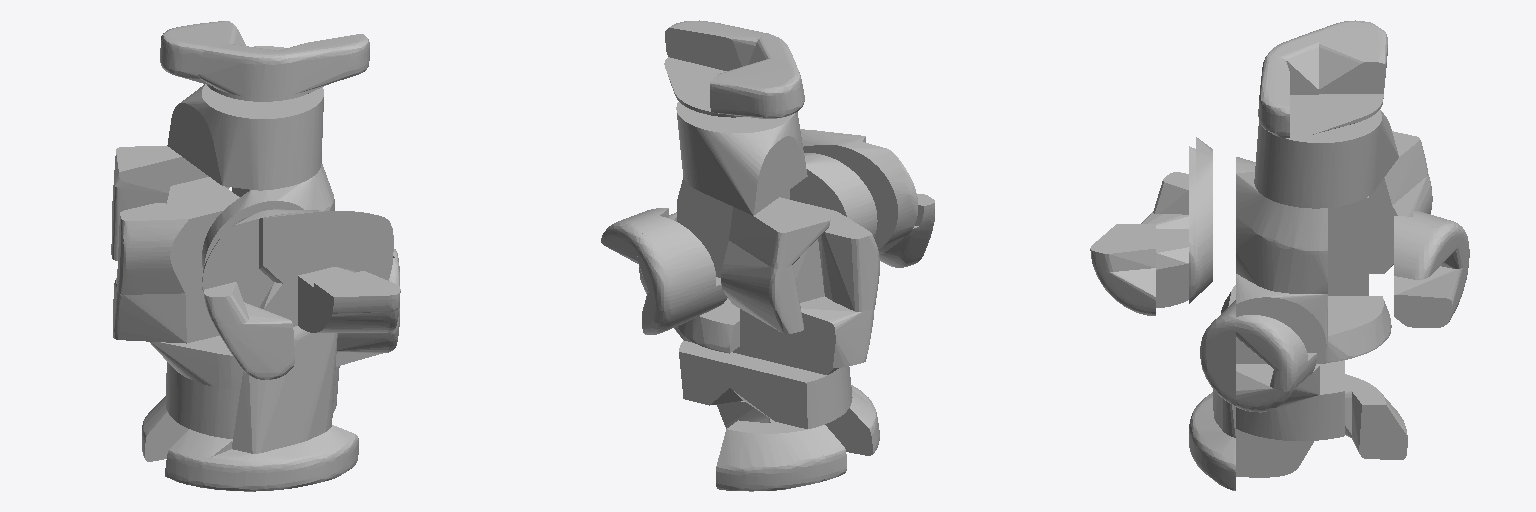
--- Facts derived from the render (not from the file) ---
3 views of the same robot in one strip: view 1: azimuth 30°, elevation 25°; view 2: azimuth 150°, elevation 25°; view 3: azimuth 270°, elevation 25° (orthographic).
Model root with 73 links and 72 joints (72 fixed), rooted at link_coacd_convex_piece_0, posed every joint at zero.
Visible links, largest first — view 1: link_coacd_convex_piece_8, link_coacd_convex_piece_6, link_coacd_convex_piece_67, link_coacd_convex_piece_0, link_coacd_convex_piece_62, link_coacd_convex_piece_65, link_coacd_convex_piece_47, link_coacd_convex_piece_34, link_coacd_convex_piece_36, link_coacd_convex_piece_71, link_coacd_convex_piece_20, link_coacd_convex_piece_7 (+14 smaller); view 2: link_coacd_convex_piece_8, link_coacd_convex_piece_32, link_coacd_convex_piece_20, link_coacd_convex_piece_65, link_coacd_convex_piece_36, link_coacd_convex_piece_54, link_coacd_convex_piece_62, link_coacd_convex_piece_68, link_coacd_convex_piece_39, link_coacd_convex_piece_70, link_coacd_convex_piece_45, link_coacd_convex_piece_71 (+14 smaller); view 3: link_coacd_convex_piece_8, link_coacd_convex_piece_43, link_coacd_convex_piece_39, link_coacd_convex_piece_21, link_coacd_convex_piece_48, link_coacd_convex_piece_49, link_coacd_convex_piece_32, link_coacd_convex_piece_59, link_coacd_convex_piece_55, link_coacd_convex_piece_29, link_coacd_convex_piece_0, link_coacd_convex_piece_72 (+19 smaller).
Link boxes in pixels (x1=…): link_coacd_convex_piece_8: x1=167, y1=84, x2=323, y2=190; link_coacd_convex_piece_6: x1=232, y1=326, x2=337, y2=453; link_coacd_convex_piece_67: x1=259, y1=211, x2=393, y2=283; link_coacd_convex_piece_0: x1=202, y1=425, x2=358, y2=491; link_coacd_convex_piece_62: x1=117, y1=203, x2=187, y2=294; link_coacd_convex_piece_65: x1=113, y1=278, x2=219, y2=343; link_coacd_convex_piece_47: x1=199, y1=44, x2=288, y2=97; link_coacd_convex_piece_34: x1=213, y1=302, x2=294, y2=379; link_coacd_convex_piece_36: x1=202, y1=209, x2=318, y2=307; link_coacd_convex_piece_71: x1=279, y1=34, x2=369, y2=95; link_coacd_convex_piece_20: x1=166, y1=362, x2=239, y2=438; link_coacd_convex_piece_7: x1=150, y1=336, x2=382, y2=389; link_coacd_convex_piece_8: x1=676, y1=102, x2=807, y2=215; link_coacd_convex_piece_32: x1=716, y1=420, x2=824, y2=491; link_coacd_convex_piece_20: x1=730, y1=355, x2=852, y2=428; link_coacd_convex_piece_65: x1=740, y1=296, x2=874, y2=368; link_coacd_convex_piece_36: x1=801, y1=134, x2=917, y2=254; link_coacd_convex_piece_54: x1=637, y1=216, x2=715, y2=299; link_coacd_convex_piece_62: x1=818, y1=212, x2=879, y2=311; link_coacd_convex_piece_68: x1=721, y1=241, x2=803, y2=333; link_coacd_convex_piece_39: x1=710, y1=59, x2=804, y2=118; link_coacd_convex_piece_70: x1=729, y1=205, x2=830, y2=268; link_coacd_convex_piece_45: x1=790, y1=153, x2=877, y2=236; link_coacd_convex_piece_71: x1=665, y1=20, x2=764, y2=70; link_coacd_convex_piece_8: x1=1254, y1=110, x2=1398, y2=208; link_coacd_convex_piece_43: x1=1236, y1=172, x2=1327, y2=293; link_coacd_convex_piece_39: x1=1319, y1=20, x2=1387, y2=93; link_coacd_convex_piece_21: x1=1236, y1=366, x2=1344, y2=440; link_coacd_convex_piece_48: x1=1236, y1=274, x2=1327, y2=363; link_coacd_convex_piece_49: x1=1328, y1=296, x2=1391, y2=362; link_coacd_convex_piece_32: x1=1352, y1=376, x2=1407, y2=459; link_coacd_convex_piece_59: x1=1394, y1=263, x2=1468, y2=327; link_coacd_convex_piece_55: x1=1394, y1=216, x2=1458, y2=279; link_coacd_convex_piece_29: x1=1290, y1=94, x2=1383, y2=137; link_coacd_convex_piece_0: x1=1189, y1=392, x2=1235, y2=490; link_coacd_convex_piece_72: x1=1328, y1=196, x2=1368, y2=270.
Size in the robot's own frame: 0.0708 by 0.0901 by 0.1086 metres.
39 mesh visuals loaded from 73 distinct referenced files (39 OBJ); not drawn: 34 (reference not matched to a file when rendering).

robot.urdf — root:
<robot name="root">
  <link name="link_coacd_convex_piece_0">
    <inertial>
      <origin xyz="0 0 0" rpy="0 0 0"/>
      <inertia ixx="5.65E-09" ixy="-8.96E-11" ixz="-2.30E-10" iyy="5.38E-09" iyz="-1.65E-09" izz="7.18E-10"/>
    </inertial>
    <visual>
      <origin xyz="0 0 0" rpy="0 0 0"/>
      <geometry>
        <mesh filename="coacd_convex_piece_0.obj" scale="1.0000E+00 1.0000E+00 1.0000E+00"/>
      </geometry>
      <material name="">
        <color rgba="7.50E-01 7.50E-01 7.50E-01 1"/>
      </material>
    </visual>
    <collision>
      <origin xyz="0 0 0" rpy="0 0 0"/>
      <geometry>
        <mesh filename="coacd_convex_piece_0.obj" scale="1.0000E+00 1.0000E+00 1.0000E+00"/>
      </geometry>
    </collision>
  </link>
  <link name="link_coacd_convex_piece_1">
    <inertial>
      <origin xyz="0 0 0" rpy="0 0 0"/>
      <inertia ixx="5.19E-10" ixy="3.91E-10" ixz="4.08E-10" iyy="9.51E-10" iyz="-2.65E-10" izz="8.88E-10"/>
    </inertial>
    <visual>
      <origin xyz="0 0 0" rpy="0 0 0"/>
      <geometry>
        <mesh filename="coacd_convex_piece_1.obj" scale="1.0000E+00 1.0000E+00 1.0000E+00"/>
      </geometry>
      <material name="">
        <color rgba="7.50E-01 7.50E-01 7.50E-01 1"/>
      </material>
    </visual>
    <collision>
      <origin xyz="0 0 0" rpy="0 0 0"/>
      <geometry>
        <mesh filename="coacd_convex_piece_1.obj" scale="1.0000E+00 1.0000E+00 1.0000E+00"/>
      </geometry>
    </collision>
  </link>
  <joint name="link_coacd_convex_piece_1_joint" type="fixed">
    <origin xyz="0 0 0" rpy="0 0 0"/>
    <parent link="link_coacd_convex_piece_0"/>
    <child link="link_coacd_convex_piece_1"/>
  </joint>
  <link name="link_coacd_convex_piece_2">
    <inertial>
      <origin xyz="0 0 0" rpy="0 0 0"/>
      <inertia ixx="3.20E-09" ixy="4.69E-10" ixz="-1.83E-10" iyy="5.70E-10" iyz="1.03E-09" izz="2.92E-09"/>
    </inertial>
    <visual>
      <origin xyz="0 0 0" rpy="0 0 0"/>
      <geometry>
        <mesh filename="coacd_convex_piece_2.obj" scale="1.0000E+00 1.0000E+00 1.0000E+00"/>
      </geometry>
      <material name="">
        <color rgba="7.50E-01 7.50E-01 7.50E-01 1"/>
      </material>
    </visual>
    <collision>
      <origin xyz="0 0 0" rpy="0 0 0"/>
      <geometry>
        <mesh filename="coacd_convex_piece_2.obj" scale="1.0000E+00 1.0000E+00 1.0000E+00"/>
      </geometry>
    </collision>
  </link>
  <joint name="link_coacd_convex_piece_2_joint" type="fixed">
    <origin xyz="0 0 0" rpy="0 0 0"/>
    <parent link="link_coacd_convex_piece_1"/>
    <child link="link_coacd_convex_piece_2"/>
  </joint>
  <link name="link_coacd_convex_piece_3">
    <inertial>
      <origin xyz="0 0 0" rpy="0 0 0"/>
      <inertia ixx="8.60E-10" ixy="-3.08E-10" ixz="2.15E-10" iyy="7.87E-10" iyz="3.41E-10" izz="9.61E-10"/>
    </inertial>
    <visual>
      <origin xyz="0 0 0" rpy="0 0 0"/>
      <geometry>
        <mesh filename="coacd_convex_piece_3.obj" scale="1.0000E+00 1.0000E+00 1.0000E+00"/>
      </geometry>
      <material name="">
        <color rgba="7.50E-01 7.50E-01 7.50E-01 1"/>
      </material>
    </visual>
    <collision>
      <origin xyz="0 0 0" rpy="0 0 0"/>
      <geometry>
        <mesh filename="coacd_convex_piece_3.obj" scale="1.0000E+00 1.0000E+00 1.0000E+00"/>
      </geometry>
    </collision>
  </link>
  <joint name="link_coacd_convex_piece_3_joint" type="fixed">
    <origin xyz="0 0 0" rpy="0 0 0"/>
    <parent link="link_coacd_convex_piece_2"/>
    <child link="link_coacd_convex_piece_3"/>
  </joint>
  <link name="link_coacd_convex_piece_4">
    <inertial>
      <origin xyz="0 0 0" rpy="0 0 0"/>
      <inertia ixx="1.41E-09" ixy="-4.22E-10" ixz="-1.90E-11" iyy="1.61E-10" iyz="-6.66E-11" izz="1.51E-09"/>
    </inertial>
    <visual>
      <origin xyz="0 0 0" rpy="0 0 0"/>
      <geometry>
        <mesh filename="coacd_convex_piece_4.obj" scale="1.0000E+00 1.0000E+00 1.0000E+00"/>
      </geometry>
      <material name="">
        <color rgba="7.50E-01 7.50E-01 7.50E-01 1"/>
      </material>
    </visual>
    <collision>
      <origin xyz="0 0 0" rpy="0 0 0"/>
      <geometry>
        <mesh filename="coacd_convex_piece_4.obj" scale="1.0000E+00 1.0000E+00 1.0000E+00"/>
      </geometry>
    </collision>
  </link>
  <joint name="link_coacd_convex_piece_4_joint" type="fixed">
    <origin xyz="0 0 0" rpy="0 0 0"/>
    <parent link="link_coacd_convex_piece_3"/>
    <child link="link_coacd_convex_piece_4"/>
  </joint>
  <link name="link_coacd_convex_piece_5">
    <inertial>
      <origin xyz="0 0 0" rpy="0 0 0"/>
      <inertia ixx="8.54E-09" ixy="-5.01E-10" ixz="1.37E-09" iyy="7.70E-09" iyz="2.91E-09" izz="1.56E-09"/>
    </inertial>
    <visual>
      <origin xyz="0 0 0" rpy="0 0 0"/>
      <geometry>
        <mesh filename="coacd_convex_piece_5.obj" scale="1.0000E+00 1.0000E+00 1.0000E+00"/>
      </geometry>
      <material name="">
        <color rgba="7.50E-01 7.50E-01 7.50E-01 1"/>
      </material>
    </visual>
    <collision>
      <origin xyz="0 0 0" rpy="0 0 0"/>
      <geometry>
        <mesh filename="coacd_convex_piece_5.obj" scale="1.0000E+00 1.0000E+00 1.0000E+00"/>
      </geometry>
    </collision>
  </link>
  <joint name="link_coacd_convex_piece_5_joint" type="fixed">
    <origin xyz="0 0 0" rpy="0 0 0"/>
    <parent link="link_coacd_convex_piece_4"/>
    <child link="link_coacd_convex_piece_5"/>
  </joint>
  <link name="link_coacd_convex_piece_6">
    <inertial>
      <origin xyz="0 0 0" rpy="0 0 0"/>
      <inertia ixx="2.23E-09" ixy="-3.83E-11" ixz="-8.50E-11" iyy="2.01E-09" iyz="-8.12E-10" izz="4.17E-10"/>
    </inertial>
    <visual>
      <origin xyz="0 0 0" rpy="0 0 0"/>
      <geometry>
        <mesh filename="coacd_convex_piece_6.obj" scale="1.0000E+00 1.0000E+00 1.0000E+00"/>
      </geometry>
      <material name="">
        <color rgba="7.50E-01 7.50E-01 7.50E-01 1"/>
      </material>
    </visual>
    <collision>
      <origin xyz="0 0 0" rpy="0 0 0"/>
      <geometry>
        <mesh filename="coacd_convex_piece_6.obj" scale="1.0000E+00 1.0000E+00 1.0000E+00"/>
      </geometry>
    </collision>
  </link>
  <joint name="link_coacd_convex_piece_6_joint" type="fixed">
    <origin xyz="0 0 0" rpy="0 0 0"/>
    <parent link="link_coacd_convex_piece_5"/>
    <child link="link_coacd_convex_piece_6"/>
  </joint>
  <link name="link_coacd_convex_piece_7">
    <inertial>
      <origin xyz="0 0 0" rpy="0 0 0"/>
      <inertia ixx="3.57E-09" ixy="7.56E-11" ixz="6.93E-10" iyy="5.10E-09" iyz="-1.26E-10" izz="1.74E-09"/>
    </inertial>
    <visual>
      <origin xyz="0 0 0" rpy="0 0 0"/>
      <geometry>
        <mesh filename="coacd_convex_piece_7.obj" scale="1.0000E+00 1.0000E+00 1.0000E+00"/>
      </geometry>
      <material name="">
        <color rgba="7.50E-01 7.50E-01 7.50E-01 1"/>
      </material>
    </visual>
    <collision>
      <origin xyz="0 0 0" rpy="0 0 0"/>
      <geometry>
        <mesh filename="coacd_convex_piece_7.obj" scale="1.0000E+00 1.0000E+00 1.0000E+00"/>
      </geometry>
    </collision>
  </link>
  <joint name="link_coacd_convex_piece_7_joint" type="fixed">
    <origin xyz="0 0 0" rpy="0 0 0"/>
    <parent link="link_coacd_convex_piece_6"/>
    <child link="link_coacd_convex_piece_7"/>
  </joint>
  <link name="link_coacd_convex_piece_8">
    <inertial>
      <origin xyz="0 0 0" rpy="0 0 0"/>
      <inertia ixx="1.16E-08" ixy="-2.11E-10" ixz="-7.82E-10" iyy="1.06E-08" iyz="-3.44E-09" izz="2.34E-09"/>
    </inertial>
    <visual>
      <origin xyz="0 0 0" rpy="0 0 0"/>
      <geometry>
        <mesh filename="coacd_convex_piece_8.obj" scale="1.0000E+00 1.0000E+00 1.0000E+00"/>
      </geometry>
      <material name="">
        <color rgba="7.50E-01 7.50E-01 7.50E-01 1"/>
      </material>
    </visual>
    <collision>
      <origin xyz="0 0 0" rpy="0 0 0"/>
      <geometry>
        <mesh filename="coacd_convex_piece_8.obj" scale="1.0000E+00 1.0000E+00 1.0000E+00"/>
      </geometry>
    </collision>
  </link>
  <joint name="link_coacd_convex_piece_8_joint" type="fixed">
    <origin xyz="0 0 0" rpy="0 0 0"/>
    <parent link="link_coacd_convex_piece_7"/>
    <child link="link_coacd_convex_piece_8"/>
  </joint>
  <link name="link_coacd_convex_piece_9">
    <inertial>
      <origin xyz="0 0 0" rpy="0 0 0"/>
      <inertia ixx="1.22E-09" ixy="1.02E-10" ixz="-5.42E-11" iyy="3.27E-10" iyz="4.93E-10" izz="9.71E-10"/>
    </inertial>
    <visual>
      <origin xyz="0 0 0" rpy="0 0 0"/>
      <geometry>
        <mesh filename="coacd_convex_piece_9.obj" scale="1.0000E+00 1.0000E+00 1.0000E+00"/>
      </geometry>
      <material name="">
        <color rgba="7.50E-01 7.50E-01 7.50E-01 1"/>
      </material>
    </visual>
    <collision>
      <origin xyz="0 0 0" rpy="0 0 0"/>
      <geometry>
        <mesh filename="coacd_convex_piece_9.obj" scale="1.0000E+00 1.0000E+00 1.0000E+00"/>
      </geometry>
    </collision>
  </link>
  <joint name="link_coacd_convex_piece_9_joint" type="fixed">
    <origin xyz="0 0 0" rpy="0 0 0"/>
    <parent link="link_coacd_convex_piece_8"/>
    <child link="link_coacd_convex_piece_9"/>
  </joint>
  <link name="link_coacd_convex_piece_10">
    <inertial>
      <origin xyz="0 0 0" rpy="0 0 0"/>
      <inertia ixx="1.81E-09" ixy="1.93E-10" ixz="-3.38E-10" iyy="1.45E-09" iyz="7.91E-10" izz="5.80E-10"/>
    </inertial>
    <visual>
      <origin xyz="0 0 0" rpy="0 0 0"/>
      <geometry>
        <mesh filename="coacd_convex_piece_10.obj" scale="1.0000E+00 1.0000E+00 1.0000E+00"/>
      </geometry>
      <material name="">
        <color rgba="7.50E-01 7.50E-01 7.50E-01 1"/>
      </material>
    </visual>
    <collision>
      <origin xyz="0 0 0" rpy="0 0 0"/>
      <geometry>
        <mesh filename="coacd_convex_piece_10.obj" scale="1.0000E+00 1.0000E+00 1.0000E+00"/>
      </geometry>
    </collision>
  </link>
  <joint name="link_coacd_convex_piece_10_joint" type="fixed">
    <origin xyz="0 0 0" rpy="0 0 0"/>
    <parent link="link_coacd_convex_piece_9"/>
    <child link="link_coacd_convex_piece_10"/>
  </joint>
  <link name="link_coacd_convex_piece_11">
    <inertial>
      <origin xyz="0 0 0" rpy="0 0 0"/>
      <inertia ixx="1.30E-09" ixy="-5.39E-10" ixz="4.52E-10" iyy="9.49E-10" iyz="6.31E-10" izz="1.14E-09"/>
    </inertial>
    <visual>
      <origin xyz="0 0 0" rpy="0 0 0"/>
      <geometry>
        <mesh filename="coacd_convex_piece_11.obj" scale="1.0000E+00 1.0000E+00 1.0000E+00"/>
      </geometry>
      <material name="">
        <color rgba="7.50E-01 7.50E-01 7.50E-01 1"/>
      </material>
    </visual>
    <collision>
      <origin xyz="0 0 0" rpy="0 0 0"/>
      <geometry>
        <mesh filename="coacd_convex_piece_11.obj" scale="1.0000E+00 1.0000E+00 1.0000E+00"/>
      </geometry>
    </collision>
  </link>
  <joint name="link_coacd_convex_piece_11_joint" type="fixed">
    <origin xyz="0 0 0" rpy="0 0 0"/>
    <parent link="link_coacd_convex_piece_10"/>
    <child link="link_coacd_convex_piece_11"/>
  </joint>
  <link name="link_coacd_convex_piece_12">
    <inertial>
      <origin xyz="0 0 0" rpy="0 0 0"/>
      <inertia ixx="1.37E-09" ixy="-2.89E-10" ixz="1.73E-10" iyy="4.44E-10" iyz="5.66E-10" izz="1.10E-09"/>
    </inertial>
    <visual>
      <origin xyz="0 0 0" rpy="0 0 0"/>
      <geometry>
        <mesh filename="coacd_convex_piece_12.obj" scale="1.0000E+00 1.0000E+00 1.0000E+00"/>
      </geometry>
      <material name="">
        <color rgba="7.50E-01 7.50E-01 7.50E-01 1"/>
      </material>
    </visual>
    <collision>
      <origin xyz="0 0 0" rpy="0 0 0"/>
      <geometry>
        <mesh filename="coacd_convex_piece_12.obj" scale="1.0000E+00 1.0000E+00 1.0000E+00"/>
      </geometry>
    </collision>
  </link>
  <joint name="link_coacd_convex_piece_12_joint" type="fixed">
    <origin xyz="0 0 0" rpy="0 0 0"/>
    <parent link="link_coacd_convex_piece_11"/>
    <child link="link_coacd_convex_piece_12"/>
  </joint>
  <link name="link_coacd_convex_piece_13">
    <inertial>
      <origin xyz="0 0 0" rpy="0 0 0"/>
      <inertia ixx="5.78E-10" ixy="-1.39E-10" ixz="1.07E-10" iyy="2.76E-10" iyz="2.69E-10" izz="4.10E-10"/>
    </inertial>
    <visual>
      <origin xyz="0 0 0" rpy="0 0 0"/>
      <geometry>
        <mesh filename="coacd_convex_piece_13.obj" scale="1.0000E+00 1.0000E+00 1.0000E+00"/>
      </geometry>
      <material name="">
        <color rgba="7.50E-01 7.50E-01 7.50E-01 1"/>
      </material>
    </visual>
    <collision>
      <origin xyz="0 0 0" rpy="0 0 0"/>
      <geometry>
        <mesh filename="coacd_convex_piece_13.obj" scale="1.0000E+00 1.0000E+00 1.0000E+00"/>
      </geometry>
    </collision>
  </link>
  <joint name="link_coacd_convex_piece_13_joint" type="fixed">
    <origin xyz="0 0 0" rpy="0 0 0"/>
    <parent link="link_coacd_convex_piece_12"/>
    <child link="link_coacd_convex_piece_13"/>
  </joint>
  <link name="link_coacd_convex_piece_14">
    <inertial>
      <origin xyz="0 0 0" rpy="0 0 0"/>
      <inertia ixx="1.01E-09" ixy="1.15E-10" ixz="-1.28E-11" iyy="4.17E-11" iyz="1.23E-10" izz="1.03E-09"/>
    </inertial>
    <visual>
      <origin xyz="0 0 0" rpy="0 0 0"/>
      <geometry>
        <mesh filename="coacd_convex_piece_14.obj" scale="1.0000E+00 1.0000E+00 1.0000E+00"/>
      </geometry>
      <material name="">
        <color rgba="7.50E-01 7.50E-01 7.50E-01 1"/>
      </material>
    </visual>
    <collision>
      <origin xyz="0 0 0" rpy="0 0 0"/>
      <geometry>
        <mesh filename="coacd_convex_piece_14.obj" scale="1.0000E+00 1.0000E+00 1.0000E+00"/>
      </geometry>
    </collision>
  </link>
  <joint name="link_coacd_convex_piece_14_joint" type="fixed">
    <origin xyz="0 0 0" rpy="0 0 0"/>
    <parent link="link_coacd_convex_piece_13"/>
    <child link="link_coacd_convex_piece_14"/>
  </joint>
  <link name="link_coacd_convex_piece_15">
    <inertial>
      <origin xyz="0 0 0" rpy="0 0 0"/>
      <inertia ixx="1.29E-10" ixy="-5.08E-11" ixz="-1.24E-11" iyy="7.33E-11" iyz="-5.11E-11" izz="1.73E-10"/>
    </inertial>
    <visual>
      <origin xyz="0 0 0" rpy="0 0 0"/>
      <geometry>
        <mesh filename="coacd_convex_piece_15.obj" scale="1.0000E+00 1.0000E+00 1.0000E+00"/>
      </geometry>
      <material name="">
        <color rgba="7.50E-01 7.50E-01 7.50E-01 1"/>
      </material>
    </visual>
    <collision>
      <origin xyz="0 0 0" rpy="0 0 0"/>
      <geometry>
        <mesh filename="coacd_convex_piece_15.obj" scale="1.0000E+00 1.0000E+00 1.0000E+00"/>
      </geometry>
    </collision>
  </link>
  <joint name="link_coacd_convex_piece_15_joint" type="fixed">
    <origin xyz="0 0 0" rpy="0 0 0"/>
    <parent link="link_coacd_convex_piece_14"/>
    <child link="link_coacd_convex_piece_15"/>
  </joint>
  <link name="link_coacd_convex_piece_16">
    <inertial>
      <origin xyz="0 0 0" rpy="0 0 0"/>
      <inertia ixx="3.81E-10" ixy="2.26E-10" ixz="8.52E-12" iyy="1.44E-10" iyz="-2.10E-11" izz="5.17E-10"/>
    </inertial>
    <visual>
      <origin xyz="0 0 0" rpy="0 0 0"/>
      <geometry>
        <mesh filename="coacd_convex_piece_16.obj" scale="1.0000E+00 1.0000E+00 1.0000E+00"/>
      </geometry>
      <material name="">
        <color rgba="7.50E-01 7.50E-01 7.50E-01 1"/>
      </material>
    </visual>
    <collision>
      <origin xyz="0 0 0" rpy="0 0 0"/>
      <geometry>
        <mesh filename="coacd_convex_piece_16.obj" scale="1.0000E+00 1.0000E+00 1.0000E+00"/>
      </geometry>
    </collision>
  </link>
  <joint name="link_coacd_convex_piece_16_joint" type="fixed">
    <origin xyz="0 0 0" rpy="0 0 0"/>
    <parent link="link_coacd_convex_piece_15"/>
    <child link="link_coacd_convex_piece_16"/>
  </joint>
  <link name="link_coacd_convex_piece_17">
    <inertial>
      <origin xyz="0 0 0" rpy="0 0 0"/>
      <inertia ixx="1.62E-09" ixy="2.97E-10" ixz="2.44E-11" iyy="9.91E-11" iyz="-9.72E-11" izz="1.71E-09"/>
    </inertial>
    <visual>
      <origin xyz="0 0 0" rpy="0 0 0"/>
      <geometry>
        <mesh filename="coacd_convex_piece_17.obj" scale="1.0000E+00 1.0000E+00 1.0000E+00"/>
      </geometry>
      <material name="">
        <color rgba="7.50E-01 7.50E-01 7.50E-01 1"/>
      </material>
    </visual>
    <collision>
      <origin xyz="0 0 0" rpy="0 0 0"/>
      <geometry>
        <mesh filename="coacd_convex_piece_17.obj" scale="1.0000E+00 1.0000E+00 1.0000E+00"/>
      </geometry>
    </collision>
  </link>
  <joint name="link_coacd_convex_piece_17_joint" type="fixed">
    <origin xyz="0 0 0" rpy="0 0 0"/>
    <parent link="link_coacd_convex_piece_16"/>
    <child link="link_coacd_convex_piece_17"/>
  </joint>
  <link name="link_coacd_convex_piece_18">
    <inertial>
      <origin xyz="0 0 0" rpy="0 0 0"/>
      <inertia ixx="2.01E-10" ixy="-2.09E-10" ixz="3.79E-11" iyy="2.24E-10" iyz="3.19E-11" izz="4.13E-10"/>
    </inertial>
    <visual>
      <origin xyz="0 0 0" rpy="0 0 0"/>
      <geometry>
        <mesh filename="coacd_convex_piece_18.obj" scale="1.0000E+00 1.0000E+00 1.0000E+00"/>
      </geometry>
      <material name="">
        <color rgba="7.50E-01 7.50E-01 7.50E-01 1"/>
      </material>
    </visual>
    <collision>
      <origin xyz="0 0 0" rpy="0 0 0"/>
      <geometry>
        <mesh filename="coacd_convex_piece_18.obj" scale="1.0000E+00 1.0000E+00 1.0000E+00"/>
      </geometry>
    </collision>
  </link>
  <joint name="link_coacd_convex_piece_18_joint" type="fixed">
    <origin xyz="0 0 0" rpy="0 0 0"/>
    <parent link="link_coacd_convex_piece_17"/>
    <child link="link_coacd_convex_piece_18"/>
  </joint>
  <link name="link_coacd_convex_piece_19">
    <inertial>
      <origin xyz="0 0 0" rpy="0 0 0"/>
      <inertia ixx="5.73E-09" ixy="-4.95E-11" ixz="1.92E-09" iyy="6.35E-09" iyz="6.70E-11" izz="7.13E-10"/>
    </inertial>
    <visual>
      <origin xyz="0 0 0" rpy="0 0 0"/>
      <geometry>
        <mesh filename="coacd_convex_piece_19.obj" scale="1.0000E+00 1.0000E+00 1.0000E+00"/>
      </geometry>
      <material name="">
        <color rgba="7.50E-01 7.50E-01 7.50E-01 1"/>
      </material>
    </visual>
    <collision>
      <origin xyz="0 0 0" rpy="0 0 0"/>
      <geometry>
        <mesh filename="coacd_convex_piece_19.obj" scale="1.0000E+00 1.0000E+00 1.0000E+00"/>
      </geometry>
    </collision>
  </link>
  <joint name="link_coacd_convex_piece_19_joint" type="fixed">
    <origin xyz="0 0 0" rpy="0 0 0"/>
    <parent link="link_coacd_convex_piece_18"/>
    <child link="link_coacd_convex_piece_19"/>
  </joint>
  <link name="link_coacd_convex_piece_20">
    <inertial>
      <origin xyz="0 0 0" rpy="0 0 0"/>
      <inertia ixx="6.77E-09" ixy="1.49E-10" ixz="-1.75E-09" iyy="7.25E-09" iyz="4.80E-10" izz="9.98E-10"/>
    </inertial>
    <visual>
      <origin xyz="0 0 0" rpy="0 0 0"/>
      <geometry>
        <mesh filename="coacd_convex_piece_20.obj" scale="1.0000E+00 1.0000E+00 1.0000E+00"/>
      </geometry>
      <material name="">
        <color rgba="7.50E-01 7.50E-01 7.50E-01 1"/>
      </material>
    </visual>
    <collision>
      <origin xyz="0 0 0" rpy="0 0 0"/>
      <geometry>
        <mesh filename="coacd_convex_piece_20.obj" scale="1.0000E+00 1.0000E+00 1.0000E+00"/>
      </geometry>
    </collision>
  </link>
  <joint name="link_coacd_convex_piece_20_joint" type="fixed">
    <origin xyz="0 0 0" rpy="0 0 0"/>
    <parent link="link_coacd_convex_piece_19"/>
    <child link="link_coacd_convex_piece_20"/>
  </joint>
  <link name="link_coacd_convex_piece_21">
    <inertial>
      <origin xyz="0 0 0" rpy="0 0 0"/>
      <inertia ixx="4.36E-09" ixy="-1.52E-10" ixz="1.29E-09" iyy="4.66E-09" iyz="3.45E-10" izz="6.34E-10"/>
    </inertial>
    <visual>
      <origin xyz="0 0 0" rpy="0 0 0"/>
      <geometry>
        <mesh filename="coacd_convex_piece_21.obj" scale="1.0000E+00 1.0000E+00 1.0000E+00"/>
      </geometry>
      <material name="">
        <color rgba="7.50E-01 7.50E-01 7.50E-01 1"/>
      </material>
    </visual>
    <collision>
      <origin xyz="0 0 0" rpy="0 0 0"/>
      <geometry>
        <mesh filename="coacd_convex_piece_21.obj" scale="1.0000E+00 1.0000E+00 1.0000E+00"/>
      </geometry>
    </collision>
  </link>
  <joint name="link_coacd_convex_piece_21_joint" type="fixed">
    <origin xyz="0 0 0" rpy="0 0 0"/>
    <parent link="link_coacd_convex_piece_20"/>
    <child link="link_coacd_convex_piece_21"/>
  </joint>
  <link name="link_coacd_convex_piece_22">
    <inertial>
      <origin xyz="0 0 0" rpy="0 0 0"/>
      <inertia ixx="4.69E-09" ixy="1.48E-09" ixz="2.21E-09" iyy="4.83E-09" iyz="-2.16E-09" izz="3.13E-09"/>
    </inertial>
    <visual>
      <origin xyz="0 0 0" rpy="0 0 0"/>
      <geometry>
        <mesh filename="coacd_convex_piece_22.obj" scale="1.0000E+00 1.0000E+00 1.0000E+00"/>
      </geometry>
      <material name="">
        <color rgba="7.50E-01 7.50E-01 7.50E-01 1"/>
      </material>
    </visual>
    <collision>
      <origin xyz="0 0 0" rpy="0 0 0"/>
      <geometry>
        <mesh filename="coacd_convex_piece_22.obj" scale="1.0000E+00 1.0000E+00 1.0000E+00"/>
      </geometry>
    </collision>
  </link>
  <joint name="link_coacd_convex_piece_22_joint" type="fixed">
    <origin xyz="0 0 0" rpy="0 0 0"/>
    <parent link="link_coacd_convex_piece_21"/>
    <child link="link_coacd_convex_piece_22"/>
  </joint>
  <link name="link_coacd_convex_piece_23">
    <inertial>
      <origin xyz="0 0 0" rpy="0 0 0"/>
      <inertia ixx="5.71E-10" ixy="2.70E-10" ixz="-1.40E-10" iyy="3.01E-10" iyz="2.31E-10" izz="6.13E-10"/>
    </inertial>
    <visual>
      <origin xyz="0 0 0" rpy="0 0 0"/>
      <geometry>
        <mesh filename="coacd_convex_piece_23.obj" scale="1.0000E+00 1.0000E+00 1.0000E+00"/>
      </geometry>
      <material name="">
        <color rgba="7.50E-01 7.50E-01 7.50E-01 1"/>
      </material>
    </visual>
    <collision>
      <origin xyz="0 0 0" rpy="0 0 0"/>
      <geometry>
        <mesh filename="coacd_convex_piece_23.obj" scale="1.0000E+00 1.0000E+00 1.0000E+00"/>
      </geometry>
    </collision>
  </link>
  <joint name="link_coacd_convex_piece_23_joint" type="fixed">
    <origin xyz="0 0 0" rpy="0 0 0"/>
    <parent link="link_coacd_convex_piece_22"/>
    <child link="link_coacd_convex_piece_23"/>
  </joint>
  <link name="link_coacd_convex_piece_24">
    <inertial>
      <origin xyz="0 0 0" rpy="0 0 0"/>
      <inertia ixx="3.29E-10" ixy="-2.61E-10" ixz="1.30E-10" iyy="3.24E-10" iyz="1.31E-10" izz="5.19E-10"/>
    </inertial>
    <visual>
      <origin xyz="0 0 0" rpy="0 0 0"/>
      <geometry>
        <mesh filename="coacd_convex_piece_24.obj" scale="1.0000E+00 1.0000E+00 1.0000E+00"/>
      </geometry>
      <material name="">
        <color rgba="7.50E-01 7.50E-01 7.50E-01 1"/>
      </material>
    </visual>
    <collision>
      <origin xyz="0 0 0" rpy="0 0 0"/>
      <geometry>
        <mesh filename="coacd_convex_piece_24.obj" scale="1.0000E+00 1.0000E+00 1.0000E+00"/>
      </geometry>
    </collision>
  </link>
  <joint name="link_coacd_convex_piece_24_joint" type="fixed">
    <origin xyz="0 0 0" rpy="0 0 0"/>
    <parent link="link_coacd_convex_piece_23"/>
    <child link="link_coacd_convex_piece_24"/>
  </joint>
  <link name="link_coacd_convex_piece_25">
    <inertial>
      <origin xyz="0 0 0" rpy="0 0 0"/>
      <inertia ixx="8.06E-10" ixy="8.92E-11" ixz="7.57E-12" iyy="4.38E-11" iyz="-4.05E-11" izz="8.26E-10"/>
    </inertial>
    <visual>
      <origin xyz="0 0 0" rpy="0 0 0"/>
      <geometry>
        <mesh filename="coacd_convex_piece_25.obj" scale="1.0000E+00 1.0000E+00 1.0000E+00"/>
      </geometry>
      <material name="">
        <color rgba="7.50E-01 7.50E-01 7.50E-01 1"/>
      </material>
    </visual>
    <collision>
      <origin xyz="0 0 0" rpy="0 0 0"/>
      <geometry>
        <mesh filename="coacd_convex_piece_25.obj" scale="1.0000E+00 1.0000E+00 1.0000E+00"/>
      </geometry>
    </collision>
  </link>
  <joint name="link_coacd_convex_piece_25_joint" type="fixed">
    <origin xyz="0 0 0" rpy="0 0 0"/>
    <parent link="link_coacd_convex_piece_24"/>
    <child link="link_coacd_convex_piece_25"/>
  </joint>
  <link name="link_coacd_convex_piece_26">
    <inertial>
      <origin xyz="0 0 0" rpy="0 0 0"/>
      <inertia ixx="1.80E-09" ixy="-1.40E-10" ixz="2.34E-10" iyy="1.39E-09" iyz="7.89E-10" izz="5.36E-10"/>
    </inertial>
    <visual>
      <origin xyz="0 0 0" rpy="0 0 0"/>
      <geometry>
        <mesh filename="coacd_convex_piece_26.obj" scale="1.0000E+00 1.0000E+00 1.0000E+00"/>
      </geometry>
      <material name="">
        <color rgba="7.50E-01 7.50E-01 7.50E-01 1"/>
      </material>
    </visual>
    <collision>
      <origin xyz="0 0 0" rpy="0 0 0"/>
      <geometry>
        <mesh filename="coacd_convex_piece_26.obj" scale="1.0000E+00 1.0000E+00 1.0000E+00"/>
      </geometry>
    </collision>
  </link>
  <joint name="link_coacd_convex_piece_26_joint" type="fixed">
    <origin xyz="0 0 0" rpy="0 0 0"/>
    <parent link="link_coacd_convex_piece_25"/>
    <child link="link_coacd_convex_piece_26"/>
  </joint>
  <link name="link_coacd_convex_piece_27">
    <inertial>
      <origin xyz="0 0 0" rpy="0 0 0"/>
      <inertia ixx="1.05E-09" ixy="5.48E-10" ixz="-6.91E-10" iyy="1.42E-09" iyz="4.94E-10" izz="1.19E-09"/>
    </inertial>
    <visual>
      <origin xyz="0 0 0" rpy="0 0 0"/>
      <geometry>
        <mesh filename="coacd_convex_piece_27.obj" scale="1.0000E+00 1.0000E+00 1.0000E+00"/>
      </geometry>
      <material name="">
        <color rgba="7.50E-01 7.50E-01 7.50E-01 1"/>
      </material>
    </visual>
    <collision>
      <origin xyz="0 0 0" rpy="0 0 0"/>
      <geometry>
        <mesh filename="coacd_convex_piece_27.obj" scale="1.0000E+00 1.0000E+00 1.0000E+00"/>
      </geometry>
    </collision>
  </link>
  <joint name="link_coacd_convex_piece_27_joint" type="fixed">
    <origin xyz="0 0 0" rpy="0 0 0"/>
    <parent link="link_coacd_convex_piece_26"/>
    <child link="link_coacd_convex_piece_27"/>
  </joint>
  <link name="link_coacd_convex_piece_28">
    <inertial>
      <origin xyz="0 0 0" rpy="0 0 0"/>
      <inertia ixx="3.69E-09" ixy="9.22E-12" ixz="3.91E-10" iyy="3.72E-09" iyz="-2.16E-10" izz="8.84E-11"/>
    </inertial>
    <visual>
      <origin xyz="0 0 0" rpy="0 0 0"/>
      <geometry>
        <mesh filename="coacd_convex_piece_28.obj" scale="1.0000E+00 1.0000E+00 1.0000E+00"/>
      </geometry>
      <material name="">
        <color rgba="7.50E-01 7.50E-01 7.50E-01 1"/>
      </material>
    </visual>
    <collision>
      <origin xyz="0 0 0" rpy="0 0 0"/>
      <geometry>
        <mesh filename="coacd_convex_piece_28.obj" scale="1.0000E+00 1.0000E+00 1.0000E+00"/>
      </geometry>
    </collision>
  </link>
  <joint name="link_coacd_convex_piece_28_joint" type="fixed">
    <origin xyz="0 0 0" rpy="0 0 0"/>
    <parent link="link_coacd_convex_piece_27"/>
    <child link="link_coacd_convex_piece_28"/>
  </joint>
  <link name="link_coacd_convex_piece_29">
    <inertial>
      <origin xyz="0 0 0" rpy="0 0 0"/>
      <inertia ixx="1.23E-09" ixy="-3.27E-11" ixz="-1.58E-10" iyy="1.22E-09" iyz="-2.55E-10" izz="1.39E-10"/>
    </inertial>
    <visual>
      <origin xyz="0 0 0" rpy="0 0 0"/>
      <geometry>
        <mesh filename="coacd_convex_piece_29.obj" scale="1.0000E+00 1.0000E+00 1.0000E+00"/>
      </geometry>
      <material name="">
        <color rgba="7.50E-01 7.50E-01 7.50E-01 1"/>
      </material>
    </visual>
    <collision>
      <origin xyz="0 0 0" rpy="0 0 0"/>
      <geometry>
        <mesh filename="coacd_convex_piece_29.obj" scale="1.0000E+00 1.0000E+00 1.0000E+00"/>
      </geometry>
    </collision>
  </link>
  <joint name="link_coacd_convex_piece_29_joint" type="fixed">
    <origin xyz="0 0 0" rpy="0 0 0"/>
    <parent link="link_coacd_convex_piece_28"/>
    <child link="link_coacd_convex_piece_29"/>
  </joint>
  <link name="link_coacd_convex_piece_30">
    <inertial>
      <origin xyz="0 0 0" rpy="0 0 0"/>
      <inertia ixx="2.21E-09" ixy="2.28E-10" ixz="-7.63E-10" iyy="2.34E-09" iyz="6.12E-10" izz="4.84E-10"/>
    </inertial>
    <visual>
      <origin xyz="0 0 0" rpy="0 0 0"/>
      <geometry>
        <mesh filename="coacd_convex_piece_30.obj" scale="1.0000E+00 1.0000E+00 1.0000E+00"/>
      </geometry>
      <material name="">
        <color rgba="7.50E-01 7.50E-01 7.50E-01 1"/>
      </material>
    </visual>
    <collision>
      <origin xyz="0 0 0" rpy="0 0 0"/>
      <geometry>
        <mesh filename="coacd_convex_piece_30.obj" scale="1.0000E+00 1.0000E+00 1.0000E+00"/>
      </geometry>
    </collision>
  </link>
  <joint name="link_coacd_convex_piece_30_joint" type="fixed">
    <origin xyz="0 0 0" rpy="0 0 0"/>
    <parent link="link_coacd_convex_piece_29"/>
    <child link="link_coacd_convex_piece_30"/>
  </joint>
  <link name="link_coacd_convex_piece_31">
    <inertial>
      <origin xyz="0 0 0" rpy="0 0 0"/>
      <inertia ixx="6.49E-11" ixy="-2.32E-11" ixz="1.26E-10" iyy="3.04E-10" iyz="9.48E-12" izz="2.37E-10"/>
    </inertial>
    <visual>
      <origin xyz="0 0 0" rpy="0 0 0"/>
      <geometry>
        <mesh filename="coacd_convex_piece_31.obj" scale="1.0000E+00 1.0000E+00 1.0000E+00"/>
      </geometry>
      <material name="">
        <color rgba="7.50E-01 7.50E-01 7.50E-01 1"/>
      </material>
    </visual>
    <collision>
      <origin xyz="0 0 0" rpy="0 0 0"/>
      <geometry>
        <mesh filename="coacd_convex_piece_31.obj" scale="1.0000E+00 1.0000E+00 1.0000E+00"/>
      </geometry>
    </collision>
  </link>
  <joint name="link_coacd_convex_piece_31_joint" type="fixed">
    <origin xyz="0 0 0" rpy="0 0 0"/>
    <parent link="link_coacd_convex_piece_30"/>
    <child link="link_coacd_convex_piece_31"/>
  </joint>
  <link name="link_coacd_convex_piece_32">
    <inertial>
      <origin xyz="0 0 0" rpy="0 0 0"/>
      <inertia ixx="5.23E-09" ixy="4.41E-10" ixz="-9.67E-10" iyy="4.55E-09" iyz="2.02E-09" izz="1.23E-09"/>
    </inertial>
    <visual>
      <origin xyz="0 0 0" rpy="0 0 0"/>
      <geometry>
        <mesh filename="coacd_convex_piece_32.obj" scale="1.0000E+00 1.0000E+00 1.0000E+00"/>
      </geometry>
      <material name="">
        <color rgba="7.50E-01 7.50E-01 7.50E-01 1"/>
      </material>
    </visual>
    <collision>
      <origin xyz="0 0 0" rpy="0 0 0"/>
      <geometry>
        <mesh filename="coacd_convex_piece_32.obj" scale="1.0000E+00 1.0000E+00 1.0000E+00"/>
      </geometry>
    </collision>
  </link>
  <joint name="link_coacd_convex_piece_32_joint" type="fixed">
    <origin xyz="0 0 0" rpy="0 0 0"/>
    <parent link="link_coacd_convex_piece_31"/>
    <child link="link_coacd_convex_piece_32"/>
  </joint>
  <link name="link_coacd_convex_piece_33">
    <inertial>
      <origin xyz="0 0 0" rpy="0 0 0"/>
      <inertia ixx="6.83E-10" ixy="-1.18E-10" ixz="-3.73E-11" iyy="1.00E-10" iyz="-1.98E-10" izz="6.51E-10"/>
    </inertial>
    <visual>
      <origin xyz="0 0 0" rpy="0 0 0"/>
      <geometry>
        <mesh filename="coacd_convex_piece_33.obj" scale="1.0000E+00 1.0000E+00 1.0000E+00"/>
      </geometry>
      <material name="">
        <color rgba="7.50E-01 7.50E-01 7.50E-01 1"/>
      </material>
    </visual>
    <collision>
      <origin xyz="0 0 0" rpy="0 0 0"/>
      <geometry>
        <mesh filename="coacd_convex_piece_33.obj" scale="1.0000E+00 1.0000E+00 1.0000E+00"/>
      </geometry>
    </collision>
  </link>
  <joint name="link_coacd_convex_piece_33_joint" type="fixed">
    <origin xyz="0 0 0" rpy="0 0 0"/>
    <parent link="link_coacd_convex_piece_32"/>
    <child link="link_coacd_convex_piece_33"/>
  </joint>
  <link name="link_coacd_convex_piece_34">
    <inertial>
      <origin xyz="0 0 0" rpy="0 0 0"/>
      <inertia ixx="1.32E-09" ixy="-9.06E-10" ixz="-1.47E-10" iyy="7.27E-10" iyz="-2.47E-10" izz="1.93E-09"/>
    </inertial>
    <visual>
      <origin xyz="0 0 0" rpy="0 0 0"/>
      <geometry>
        <mesh filename="coacd_convex_piece_34.obj" scale="1.0000E+00 1.0000E+00 1.0000E+00"/>
      </geometry>
      <material name="">
        <color rgba="7.50E-01 7.50E-01 7.50E-01 1"/>
      </material>
    </visual>
    <collision>
      <origin xyz="0 0 0" rpy="0 0 0"/>
      <geometry>
        <mesh filename="coacd_convex_piece_34.obj" scale="1.0000E+00 1.0000E+00 1.0000E+00"/>
      </geometry>
    </collision>
  </link>
  <joint name="link_coacd_convex_piece_34_joint" type="fixed">
    <origin xyz="0 0 0" rpy="0 0 0"/>
    <parent link="link_coacd_convex_piece_33"/>
    <child link="link_coacd_convex_piece_34"/>
  </joint>
  <link name="link_coacd_convex_piece_35">
    <inertial>
      <origin xyz="0 0 0" rpy="0 0 0"/>
      <inertia ixx="2.73E-09" ixy="-2.80E-12" ixz="1.92E-11" iyy="2.03E-09" iyz="1.27E-09" izz="1.29E-09"/>
    </inertial>
    <visual>
      <origin xyz="0 0 0" rpy="0 0 0"/>
      <geometry>
        <mesh filename="coacd_convex_piece_35.obj" scale="1.0000E+00 1.0000E+00 1.0000E+00"/>
      </geometry>
      <material name="">
        <color rgba="7.50E-01 7.50E-01 7.50E-01 1"/>
      </material>
    </visual>
    <collision>
      <origin xyz="0 0 0" rpy="0 0 0"/>
      <geometry>
        <mesh filename="coacd_convex_piece_35.obj" scale="1.0000E+00 1.0000E+00 1.0000E+00"/>
      </geometry>
    </collision>
  </link>
  <joint name="link_coacd_convex_piece_35_joint" type="fixed">
    <origin xyz="0 0 0" rpy="0 0 0"/>
    <parent link="link_coacd_convex_piece_34"/>
    <child link="link_coacd_convex_piece_35"/>
  </joint>
  <link name="link_coacd_convex_piece_36">
    <inertial>
      <origin xyz="0 0 0" rpy="0 0 0"/>
      <inertia ixx="1.47E-09" ixy="-3.84E-10" ixz="1.80E-10" iyy="9.84E-10" iyz="4.33E-10" izz="1.73E-09"/>
    </inertial>
    <visual>
      <origin xyz="0 0 0" rpy="0 0 0"/>
      <geometry>
        <mesh filename="coacd_convex_piece_36.obj" scale="1.0000E+00 1.0000E+00 1.0000E+00"/>
      </geometry>
      <material name="">
        <color rgba="7.50E-01 7.50E-01 7.50E-01 1"/>
      </material>
    </visual>
    <collision>
      <origin xyz="0 0 0" rpy="0 0 0"/>
      <geometry>
        <mesh filename="coacd_convex_piece_36.obj" scale="1.0000E+00 1.0000E+00 1.0000E+00"/>
      </geometry>
    </collision>
  </link>
  <joint name="link_coacd_convex_piece_36_joint" type="fixed">
    <origin xyz="0 0 0" rpy="0 0 0"/>
    <parent link="link_coacd_convex_piece_35"/>
    <child link="link_coacd_convex_piece_36"/>
  </joint>
  <link name="link_coacd_convex_piece_37">
    <inertial>
      <origin xyz="0 0 0" rpy="0 0 0"/>
      <inertia ixx="3.07E-10" ixy="-1.15E-11" ixz="1.51E-11" iyy="9.16E-10" iyz="-3.16E-11" izz="5.21E-10"/>
    </inertial>
    <visual>
      <origin xyz="0 0 0" rpy="0 0 0"/>
      <geometry>
        <mesh filename="coacd_convex_piece_37.obj" scale="1.0000E+00 1.0000E+00 1.0000E+00"/>
      </geometry>
      <material name="">
        <color rgba="7.50E-01 7.50E-01 7.50E-01 1"/>
      </material>
    </visual>
    <collision>
      <origin xyz="0 0 0" rpy="0 0 0"/>
      <geometry>
        <mesh filename="coacd_convex_piece_37.obj" scale="1.0000E+00 1.0000E+00 1.0000E+00"/>
      </geometry>
    </collision>
  </link>
  <joint name="link_coacd_convex_piece_37_joint" type="fixed">
    <origin xyz="0 0 0" rpy="0 0 0"/>
    <parent link="link_coacd_convex_piece_36"/>
    <child link="link_coacd_convex_piece_37"/>
  </joint>
  <link name="link_coacd_convex_piece_38">
    <inertial>
      <origin xyz="0 0 0" rpy="0 0 0"/>
      <inertia ixx="4.35E-09" ixy="-1.12E-10" ixz="-4.20E-10" iyy="4.21E-09" iyz="-9.85E-10" izz="4.86E-10"/>
    </inertial>
    <visual>
      <origin xyz="0 0 0" rpy="0 0 0"/>
      <geometry>
        <mesh filename="coacd_convex_piece_38.obj" scale="1.0000E+00 1.0000E+00 1.0000E+00"/>
      </geometry>
      <material name="">
        <color rgba="7.50E-01 7.50E-01 7.50E-01 1"/>
      </material>
    </visual>
    <collision>
      <origin xyz="0 0 0" rpy="0 0 0"/>
      <geometry>
        <mesh filename="coacd_convex_piece_38.obj" scale="1.0000E+00 1.0000E+00 1.0000E+00"/>
      </geometry>
    </collision>
  </link>
  <joint name="link_coacd_convex_piece_38_joint" type="fixed">
    <origin xyz="0 0 0" rpy="0 0 0"/>
    <parent link="link_coacd_convex_piece_37"/>
    <child link="link_coacd_convex_piece_38"/>
  </joint>
  <link name="link_coacd_convex_piece_39">
    <inertial>
      <origin xyz="0 0 0" rpy="0 0 0"/>
      <inertia ixx="6.01E-09" ixy="2.64E-10" ixz="7.96E-10" iyy="5.52E-09" iyz="-1.90E-09" izz="8.43E-10"/>
    </inertial>
    <visual>
      <origin xyz="0 0 0" rpy="0 0 0"/>
      <geometry>
        <mesh filename="coacd_convex_piece_39.obj" scale="1.0000E+00 1.0000E+00 1.0000E+00"/>
      </geometry>
      <material name="">
        <color rgba="7.50E-01 7.50E-01 7.50E-01 1"/>
      </material>
    </visual>
    <collision>
      <origin xyz="0 0 0" rpy="0 0 0"/>
      <geometry>
        <mesh filename="coacd_convex_piece_39.obj" scale="1.0000E+00 1.0000E+00 1.0000E+00"/>
      </geometry>
    </collision>
  </link>
  <joint name="link_coacd_convex_piece_39_joint" type="fixed">
    <origin xyz="0 0 0" rpy="0 0 0"/>
    <parent link="link_coacd_convex_piece_38"/>
    <child link="link_coacd_convex_piece_39"/>
  </joint>
  <link name="link_coacd_convex_piece_40">
    <inertial>
      <origin xyz="0 0 0" rpy="0 0 0"/>
      <inertia ixx="2.79E-09" ixy="-1.30E-10" ixz="-1.12E-09" iyy="3.24E-09" iyz="-3.28E-10" izz="5.03E-10"/>
    </inertial>
    <visual>
      <origin xyz="0 0 0" rpy="0 0 0"/>
      <geometry>
        <mesh filename="coacd_convex_piece_40.obj" scale="1.0000E+00 1.0000E+00 1.0000E+00"/>
      </geometry>
      <material name="">
        <color rgba="7.50E-01 7.50E-01 7.50E-01 1"/>
      </material>
    </visual>
    <collision>
      <origin xyz="0 0 0" rpy="0 0 0"/>
      <geometry>
        <mesh filename="coacd_convex_piece_40.obj" scale="1.0000E+00 1.0000E+00 1.0000E+00"/>
      </geometry>
    </collision>
  </link>
  <joint name="link_coacd_convex_piece_40_joint" type="fixed">
    <origin xyz="0 0 0" rpy="0 0 0"/>
    <parent link="link_coacd_convex_piece_39"/>
    <child link="link_coacd_convex_piece_40"/>
  </joint>
  <link name="link_coacd_convex_piece_41">
    <inertial>
      <origin xyz="0 0 0" rpy="0 0 0"/>
      <inertia ixx="1.26E-09" ixy="6.16E-12" ixz="-1.93E-10" iyy="1.28E-09" iyz="4.38E-11" izz="4.05E-11"/>
    </inertial>
    <visual>
      <origin xyz="0 0 0" rpy="0 0 0"/>
      <geometry>
        <mesh filename="coacd_convex_piece_41.obj" scale="1.0000E+00 1.0000E+00 1.0000E+00"/>
      </geometry>
      <material name="">
        <color rgba="7.50E-01 7.50E-01 7.50E-01 1"/>
      </material>
    </visual>
    <collision>
      <origin xyz="0 0 0" rpy="0 0 0"/>
      <geometry>
        <mesh filename="coacd_convex_piece_41.obj" scale="1.0000E+00 1.0000E+00 1.0000E+00"/>
      </geometry>
    </collision>
  </link>
  <joint name="link_coacd_convex_piece_41_joint" type="fixed">
    <origin xyz="0 0 0" rpy="0 0 0"/>
    <parent link="link_coacd_convex_piece_40"/>
    <child link="link_coacd_convex_piece_41"/>
  </joint>
  <link name="link_coacd_convex_piece_42">
    <inertial>
      <origin xyz="0 0 0" rpy="0 0 0"/>
      <inertia ixx="3.39E-09" ixy="-1.25E-09" ixz="-1.86E-10" iyy="1.32E-09" iyz="-6.05E-10" izz="3.72E-09"/>
    </inertial>
    <visual>
      <origin xyz="0 0 0" rpy="0 0 0"/>
      <geometry>
        <mesh filename="coacd_convex_piece_42.obj" scale="1.0000E+00 1.0000E+00 1.0000E+00"/>
      </geometry>
      <material name="">
        <color rgba="7.50E-01 7.50E-01 7.50E-01 1"/>
      </material>
    </visual>
    <collision>
      <origin xyz="0 0 0" rpy="0 0 0"/>
      <geometry>
        <mesh filename="coacd_convex_piece_42.obj" scale="1.0000E+00 1.0000E+00 1.0000E+00"/>
      </geometry>
    </collision>
  </link>
  <joint name="link_coacd_convex_piece_42_joint" type="fixed">
    <origin xyz="0 0 0" rpy="0 0 0"/>
    <parent link="link_coacd_convex_piece_41"/>
    <child link="link_coacd_convex_piece_42"/>
  </joint>
  <link name="link_coacd_convex_piece_43">
    <inertial>
      <origin xyz="0 0 0" rpy="0 0 0"/>
      <inertia ixx="1.17E-09" ixy="-1.77E-10" ixz="-4.70E-10" iyy="1.62E-09" iyz="-2.04E-10" izz="7.72E-10"/>
    </inertial>
    <visual>
      <origin xyz="0 0 0" rpy="0 0 0"/>
      <geometry>
        <mesh filename="coacd_convex_piece_43.obj" scale="1.0000E+00 1.0000E+00 1.0000E+00"/>
      </geometry>
      <material name="">
        <color rgba="7.50E-01 7.50E-01 7.50E-01 1"/>
      </material>
    </visual>
    <collision>
      <origin xyz="0 0 0" rpy="0 0 0"/>
      <geometry>
        <mesh filename="coacd_convex_piece_43.obj" scale="1.0000E+00 1.0000E+00 1.0000E+00"/>
      </geometry>
    </collision>
  </link>
  <joint name="link_coacd_convex_piece_43_joint" type="fixed">
    <origin xyz="0 0 0" rpy="0 0 0"/>
    <parent link="link_coacd_convex_piece_42"/>
    <child link="link_coacd_convex_piece_43"/>
  </joint>
  <link name="link_coacd_convex_piece_44">
    <inertial>
      <origin xyz="0 0 0" rpy="0 0 0"/>
      <inertia ixx="1.53E-09" ixy="8.55E-10" ixz="-3.91E-10" iyy="9.57E-10" iyz="5.65E-10" izz="1.92E-09"/>
    </inertial>
    <visual>
      <origin xyz="0 0 0" rpy="0 0 0"/>
      <geometry>
        <mesh filename="coacd_convex_piece_44.obj" scale="1.0000E+00 1.0000E+00 1.0000E+00"/>
      </geometry>
      <material name="">
        <color rgba="7.50E-01 7.50E-01 7.50E-01 1"/>
      </material>
    </visual>
    <collision>
      <origin xyz="0 0 0" rpy="0 0 0"/>
      <geometry>
        <mesh filename="coacd_convex_piece_44.obj" scale="1.0000E+00 1.0000E+00 1.0000E+00"/>
      </geometry>
    </collision>
  </link>
  <joint name="link_coacd_convex_piece_44_joint" type="fixed">
    <origin xyz="0 0 0" rpy="0 0 0"/>
    <parent link="link_coacd_convex_piece_43"/>
    <child link="link_coacd_convex_piece_44"/>
  </joint>
  <link name="link_coacd_convex_piece_45">
    <inertial>
      <origin xyz="0 0 0" rpy="0 0 0"/>
      <inertia ixx="3.52E-10" ixy="-2.33E-10" ixz="2.02E-10" iyy="6.78E-10" iyz="9.38E-11" izz="5.22E-10"/>
    </inertial>
    <visual>
      <origin xyz="0 0 0" rpy="0 0 0"/>
      <geometry>
        <mesh filename="coacd_convex_piece_45.obj" scale="1.0000E+00 1.0000E+00 1.0000E+00"/>
      </geometry>
      <material name="">
        <color rgba="7.50E-01 7.50E-01 7.50E-01 1"/>
      </material>
    </visual>
    <collision>
      <origin xyz="0 0 0" rpy="0 0 0"/>
      <geometry>
        <mesh filename="coacd_convex_piece_45.obj" scale="1.0000E+00 1.0000E+00 1.0000E+00"/>
      </geometry>
    </collision>
  </link>
  <joint name="link_coacd_convex_piece_45_joint" type="fixed">
    <origin xyz="0 0 0" rpy="0 0 0"/>
    <parent link="link_coacd_convex_piece_44"/>
    <child link="link_coacd_convex_piece_45"/>
  </joint>
  <link name="link_coacd_convex_piece_46">
    <inertial>
      <origin xyz="0 0 0" rpy="0 0 0"/>
      <inertia ixx="4.01E-11" ixy="2.83E-11" ixz="1.15E-10" iyy="4.42E-10" iyz="-1.04E-11" izz="4.13E-10"/>
    </inertial>
    <visual>
      <origin xyz="0 0 0" rpy="0 0 0"/>
      <geometry>
        <mesh filename="coacd_convex_piece_46.obj" scale="1.0000E+00 1.0000E+00 1.0000E+00"/>
      </geometry>
      <material name="">
        <color rgba="7.50E-01 7.50E-01 7.50E-01 1"/>
      </material>
    </visual>
    <collision>
      <origin xyz="0 0 0" rpy="0 0 0"/>
      <geometry>
        <mesh filename="coacd_convex_piece_46.obj" scale="1.0000E+00 1.0000E+00 1.0000E+00"/>
      </geometry>
    </collision>
  </link>
  <joint name="link_coacd_convex_piece_46_joint" type="fixed">
    <origin xyz="0 0 0" rpy="0 0 0"/>
    <parent link="link_coacd_convex_piece_45"/>
    <child link="link_coacd_convex_piece_46"/>
  </joint>
  <link name="link_coacd_convex_piece_47">
    <inertial>
      <origin xyz="0 0 0" rpy="0 0 0"/>
      <inertia ixx="2.57E-09" ixy="1.44E-11" ixz="1.63E-10" iyy="2.58E-09" iyz="-2.04E-10" izz="3.40E-11"/>
    </inertial>
    <visual>
      <origin xyz="0 0 0" rpy="0 0 0"/>
      <geometry>
        <mesh filename="coacd_convex_piece_47.obj" scale="1.0000E+00 1.0000E+00 1.0000E+00"/>
      </geometry>
      <material name="">
        <color rgba="7.50E-01 7.50E-01 7.50E-01 1"/>
      </material>
    </visual>
    <collision>
      <origin xyz="0 0 0" rpy="0 0 0"/>
      <geometry>
        <mesh filename="coacd_convex_piece_47.obj" scale="1.0000E+00 1.0000E+00 1.0000E+00"/>
      </geometry>
    </collision>
  </link>
  <joint name="link_coacd_convex_piece_47_joint" type="fixed">
    <origin xyz="0 0 0" rpy="0 0 0"/>
    <parent link="link_coacd_convex_piece_46"/>
    <child link="link_coacd_convex_piece_47"/>
  </joint>
  <link name="link_coacd_convex_piece_48">
    <inertial>
      <origin xyz="0 0 0" rpy="0 0 0"/>
      <inertia ixx="9.80E-10" ixy="-6.21E-11" ixz="5.96E-10" iyy="1.65E-09" iyz="-4.30E-11" izz="1.02E-09"/>
    </inertial>
    <visual>
      <origin xyz="0 0 0" rpy="0 0 0"/>
      <geometry>
        <mesh filename="coacd_convex_piece_48.obj" scale="1.0000E+00 1.0000E+00 1.0000E+00"/>
      </geometry>
      <material name="">
        <color rgba="7.50E-01 7.50E-01 7.50E-01 1"/>
      </material>
    </visual>
    <collision>
      <origin xyz="0 0 0" rpy="0 0 0"/>
      <geometry>
        <mesh filename="coacd_convex_piece_48.obj" scale="1.0000E+00 1.0000E+00 1.0000E+00"/>
      </geometry>
    </collision>
  </link>
  <joint name="link_coacd_convex_piece_48_joint" type="fixed">
    <origin xyz="0 0 0" rpy="0 0 0"/>
    <parent link="link_coacd_convex_piece_47"/>
    <child link="link_coacd_convex_piece_48"/>
  </joint>
  <link name="link_coacd_convex_piece_49">
    <inertial>
      <origin xyz="0 0 0" rpy="0 0 0"/>
      <inertia ixx="7.44E-10" ixy="-1.40E-10" ixz="1.25E-10" iyy="4.02E-10" iyz="3.56E-10" izz="5.27E-10"/>
    </inertial>
    <visual>
      <origin xyz="0 0 0" rpy="0 0 0"/>
      <geometry>
        <mesh filename="coacd_convex_piece_49.obj" scale="1.0000E+00 1.0000E+00 1.0000E+00"/>
      </geometry>
      <material name="">
        <color rgba="7.50E-01 7.50E-01 7.50E-01 1"/>
      </material>
    </visual>
    <collision>
      <origin xyz="0 0 0" rpy="0 0 0"/>
      <geometry>
        <mesh filename="coacd_convex_piece_49.obj" scale="1.0000E+00 1.0000E+00 1.0000E+00"/>
      </geometry>
    </collision>
  </link>
  <joint name="link_coacd_convex_piece_49_joint" type="fixed">
    <origin xyz="0 0 0" rpy="0 0 0"/>
    <parent link="link_coacd_convex_piece_48"/>
    <child link="link_coacd_convex_piece_49"/>
  </joint>
  <link name="link_coacd_convex_piece_50">
    <inertial>
      <origin xyz="0 0 0" rpy="0 0 0"/>
      <inertia ixx="3.71E-09" ixy="-2.50E-10" ixz="-7.75E-10" iyy="3.56E-09" iyz="-1.12E-09" izz="5.87E-10"/>
    </inertial>
    <visual>
      <origin xyz="0 0 0" rpy="0 0 0"/>
      <geometry>
        <mesh filename="coacd_convex_piece_50.obj" scale="1.0000E+00 1.0000E+00 1.0000E+00"/>
      </geometry>
      <material name="">
        <color rgba="7.50E-01 7.50E-01 7.50E-01 1"/>
      </material>
    </visual>
    <collision>
      <origin xyz="0 0 0" rpy="0 0 0"/>
      <geometry>
        <mesh filename="coacd_convex_piece_50.obj" scale="1.0000E+00 1.0000E+00 1.0000E+00"/>
      </geometry>
    </collision>
  </link>
  <joint name="link_coacd_convex_piece_50_joint" type="fixed">
    <origin xyz="0 0 0" rpy="0 0 0"/>
    <parent link="link_coacd_convex_piece_49"/>
    <child link="link_coacd_convex_piece_50"/>
  </joint>
  <link name="link_coacd_convex_piece_51">
    <inertial>
      <origin xyz="0 0 0" rpy="0 0 0"/>
      <inertia ixx="3.32E-09" ixy="1.63E-10" ixz="-1.42E-09" iyy="3.93E-09" iyz="3.81E-10" izz="6.84E-10"/>
    </inertial>
    <visual>
      <origin xyz="0 0 0" rpy="0 0 0"/>
      <geometry>
        <mesh filename="coacd_convex_piece_51.obj" scale="1.0000E+00 1.0000E+00 1.0000E+00"/>
      </geometry>
      <material name="">
        <color rgba="7.50E-01 7.50E-01 7.50E-01 1"/>
      </material>
    </visual>
    <collision>
      <origin xyz="0 0 0" rpy="0 0 0"/>
      <geometry>
        <mesh filename="coacd_convex_piece_51.obj" scale="1.0000E+00 1.0000E+00 1.0000E+00"/>
      </geometry>
    </collision>
  </link>
  <joint name="link_coacd_convex_piece_51_joint" type="fixed">
    <origin xyz="0 0 0" rpy="0 0 0"/>
    <parent link="link_coacd_convex_piece_50"/>
    <child link="link_coacd_convex_piece_51"/>
  </joint>
  <link name="link_coacd_convex_piece_52">
    <inertial>
      <origin xyz="0 0 0" rpy="0 0 0"/>
      <inertia ixx="1.44E-10" ixy="-4.23E-11" ixz="-8.41E-11" iyy="1.91E-10" iyz="-6.51E-11" izz="8.59E-11"/>
    </inertial>
    <visual>
      <origin xyz="0 0 0" rpy="0 0 0"/>
      <geometry>
        <mesh filename="coacd_convex_piece_52.obj" scale="1.0000E+00 1.0000E+00 1.0000E+00"/>
      </geometry>
      <material name="">
        <color rgba="7.50E-01 7.50E-01 7.50E-01 1"/>
      </material>
    </visual>
    <collision>
      <origin xyz="0 0 0" rpy="0 0 0"/>
      <geometry>
        <mesh filename="coacd_convex_piece_52.obj" scale="1.0000E+00 1.0000E+00 1.0000E+00"/>
      </geometry>
    </collision>
  </link>
  <joint name="link_coacd_convex_piece_52_joint" type="fixed">
    <origin xyz="0 0 0" rpy="0 0 0"/>
    <parent link="link_coacd_convex_piece_51"/>
    <child link="link_coacd_convex_piece_52"/>
  </joint>
  <link name="link_coacd_convex_piece_53">
    <inertial>
      <origin xyz="0 0 0" rpy="0 0 0"/>
      <inertia ixx="4.94E-10" ixy="-1.54E-11" ixz="-7.03E-11" iyy="4.90E-10" iyz="-9.89E-11" izz="2.74E-11"/>
    </inertial>
    <visual>
      <origin xyz="0 0 0" rpy="0 0 0"/>
      <geometry>
        <mesh filename="coacd_convex_piece_53.obj" scale="1.0000E+00 1.0000E+00 1.0000E+00"/>
      </geometry>
      <material name="">
        <color rgba="7.50E-01 7.50E-01 7.50E-01 1"/>
      </material>
    </visual>
    <collision>
      <origin xyz="0 0 0" rpy="0 0 0"/>
      <geometry>
        <mesh filename="coacd_convex_piece_53.obj" scale="1.0000E+00 1.0000E+00 1.0000E+00"/>
      </geometry>
    </collision>
  </link>
  <joint name="link_coacd_convex_piece_53_joint" type="fixed">
    <origin xyz="0 0 0" rpy="0 0 0"/>
    <parent link="link_coacd_convex_piece_52"/>
    <child link="link_coacd_convex_piece_53"/>
  </joint>
  <link name="link_coacd_convex_piece_54">
    <inertial>
      <origin xyz="0 0 0" rpy="0 0 0"/>
      <inertia ixx="1.82E-09" ixy="-3.22E-10" ixz="-7.42E-11" iyy="1.67E-10" iyz="-3.95E-10" izz="1.79E-09"/>
    </inertial>
    <visual>
      <origin xyz="0 0 0" rpy="0 0 0"/>
      <geometry>
        <mesh filename="coacd_convex_piece_54.obj" scale="1.0000E+00 1.0000E+00 1.0000E+00"/>
      </geometry>
      <material name="">
        <color rgba="7.50E-01 7.50E-01 7.50E-01 1"/>
      </material>
    </visual>
    <collision>
      <origin xyz="0 0 0" rpy="0 0 0"/>
      <geometry>
        <mesh filename="coacd_convex_piece_54.obj" scale="1.0000E+00 1.0000E+00 1.0000E+00"/>
      </geometry>
    </collision>
  </link>
  <joint name="link_coacd_convex_piece_54_joint" type="fixed">
    <origin xyz="0 0 0" rpy="0 0 0"/>
    <parent link="link_coacd_convex_piece_53"/>
    <child link="link_coacd_convex_piece_54"/>
  </joint>
  <link name="link_coacd_convex_piece_55">
    <inertial>
      <origin xyz="0 0 0" rpy="0 0 0"/>
      <inertia ixx="1.23E-09" ixy="-6.03E-10" ixz="-2.03E-10" iyy="4.72E-10" iyz="-3.91E-10" izz="1.44E-09"/>
    </inertial>
    <visual>
      <origin xyz="0 0 0" rpy="0 0 0"/>
      <geometry>
        <mesh filename="coacd_convex_piece_55.obj" scale="1.0000E+00 1.0000E+00 1.0000E+00"/>
      </geometry>
      <material name="">
        <color rgba="7.50E-01 7.50E-01 7.50E-01 1"/>
      </material>
    </visual>
    <collision>
      <origin xyz="0 0 0" rpy="0 0 0"/>
      <geometry>
        <mesh filename="coacd_convex_piece_55.obj" scale="1.0000E+00 1.0000E+00 1.0000E+00"/>
      </geometry>
    </collision>
  </link>
  <joint name="link_coacd_convex_piece_55_joint" type="fixed">
    <origin xyz="0 0 0" rpy="0 0 0"/>
    <parent link="link_coacd_convex_piece_54"/>
    <child link="link_coacd_convex_piece_55"/>
  </joint>
  <link name="link_coacd_convex_piece_56">
    <inertial>
      <origin xyz="0 0 0" rpy="0 0 0"/>
      <inertia ixx="2.80E-11" ixy="1.66E-11" ixz="1.08E-10" iyy="4.45E-10" iyz="-6.35E-12" izz="4.16E-10"/>
    </inertial>
    <visual>
      <origin xyz="0 0 0" rpy="0 0 0"/>
      <geometry>
        <mesh filename="coacd_convex_piece_56.obj" scale="1.0000E+00 1.0000E+00 1.0000E+00"/>
      </geometry>
      <material name="">
        <color rgba="7.50E-01 7.50E-01 7.50E-01 1"/>
      </material>
    </visual>
    <collision>
      <origin xyz="0 0 0" rpy="0 0 0"/>
      <geometry>
        <mesh filename="coacd_convex_piece_56.obj" scale="1.0000E+00 1.0000E+00 1.0000E+00"/>
      </geometry>
    </collision>
  </link>
  <joint name="link_coacd_convex_piece_56_joint" type="fixed">
    <origin xyz="0 0 0" rpy="0 0 0"/>
    <parent link="link_coacd_convex_piece_55"/>
    <child link="link_coacd_convex_piece_56"/>
  </joint>
  <link name="link_coacd_convex_piece_57">
    <inertial>
      <origin xyz="0 0 0" rpy="0 0 0"/>
      <inertia ixx="4.54E-10" ixy="-3.24E-10" ixz="-4.96E-11" iyy="2.45E-10" iyz="-7.63E-11" izz="6.79E-10"/>
    </inertial>
    <visual>
      <origin xyz="0 0 0" rpy="0 0 0"/>
      <geometry>
        <mesh filename="coacd_convex_piece_57.obj" scale="1.0000E+00 1.0000E+00 1.0000E+00"/>
      </geometry>
      <material name="">
        <color rgba="7.50E-01 7.50E-01 7.50E-01 1"/>
      </material>
    </visual>
    <collision>
      <origin xyz="0 0 0" rpy="0 0 0"/>
      <geometry>
        <mesh filename="coacd_convex_piece_57.obj" scale="1.0000E+00 1.0000E+00 1.0000E+00"/>
      </geometry>
    </collision>
  </link>
  <joint name="link_coacd_convex_piece_57_joint" type="fixed">
    <origin xyz="0 0 0" rpy="0 0 0"/>
    <parent link="link_coacd_convex_piece_56"/>
    <child link="link_coacd_convex_piece_57"/>
  </joint>
  <link name="link_coacd_convex_piece_58">
    <inertial>
      <origin xyz="0 0 0" rpy="0 0 0"/>
      <inertia ixx="2.47E-10" ixy="-1.79E-10" ixz="1.09E-10" iyy="2.70E-10" iyz="1.05E-10" izz="3.54E-10"/>
    </inertial>
    <visual>
      <origin xyz="0 0 0" rpy="0 0 0"/>
      <geometry>
        <mesh filename="coacd_convex_piece_58.obj" scale="1.0000E+00 1.0000E+00 1.0000E+00"/>
      </geometry>
      <material name="">
        <color rgba="7.50E-01 7.50E-01 7.50E-01 1"/>
      </material>
    </visual>
    <collision>
      <origin xyz="0 0 0" rpy="0 0 0"/>
      <geometry>
        <mesh filename="coacd_convex_piece_58.obj" scale="1.0000E+00 1.0000E+00 1.0000E+00"/>
      </geometry>
    </collision>
  </link>
  <joint name="link_coacd_convex_piece_58_joint" type="fixed">
    <origin xyz="0 0 0" rpy="0 0 0"/>
    <parent link="link_coacd_convex_piece_57"/>
    <child link="link_coacd_convex_piece_58"/>
  </joint>
  <link name="link_coacd_convex_piece_59">
    <inertial>
      <origin xyz="0 0 0" rpy="0 0 0"/>
      <inertia ixx="1.95E-09" ixy="-3.61E-10" ixz="5.23E-11" iyy="1.16E-10" iyz="1.94E-10" izz="2.00E-09"/>
    </inertial>
    <visual>
      <origin xyz="0 0 0" rpy="0 0 0"/>
      <geometry>
        <mesh filename="coacd_convex_piece_59.obj" scale="1.0000E+00 1.0000E+00 1.0000E+00"/>
      </geometry>
      <material name="">
        <color rgba="7.50E-01 7.50E-01 7.50E-01 1"/>
      </material>
    </visual>
    <collision>
      <origin xyz="0 0 0" rpy="0 0 0"/>
      <geometry>
        <mesh filename="coacd_convex_piece_59.obj" scale="1.0000E+00 1.0000E+00 1.0000E+00"/>
      </geometry>
    </collision>
  </link>
  <joint name="link_coacd_convex_piece_59_joint" type="fixed">
    <origin xyz="0 0 0" rpy="0 0 0"/>
    <parent link="link_coacd_convex_piece_58"/>
    <child link="link_coacd_convex_piece_59"/>
  </joint>
  <link name="link_coacd_convex_piece_60">
    <inertial>
      <origin xyz="0 0 0" rpy="0 0 0"/>
      <inertia ixx="2.11E-10" ixy="2.39E-11" ixz="-2.29E-12" iyy="5.02E-11" iyz="-1.41E-11" izz="2.56E-10"/>
    </inertial>
    <visual>
      <origin xyz="0 0 0" rpy="0 0 0"/>
      <geometry>
        <mesh filename="coacd_convex_piece_60.obj" scale="1.0000E+00 1.0000E+00 1.0000E+00"/>
      </geometry>
      <material name="">
        <color rgba="7.50E-01 7.50E-01 7.50E-01 1"/>
      </material>
    </visual>
    <collision>
      <origin xyz="0 0 0" rpy="0 0 0"/>
      <geometry>
        <mesh filename="coacd_convex_piece_60.obj" scale="1.0000E+00 1.0000E+00 1.0000E+00"/>
      </geometry>
    </collision>
  </link>
  <joint name="link_coacd_convex_piece_60_joint" type="fixed">
    <origin xyz="0 0 0" rpy="0 0 0"/>
    <parent link="link_coacd_convex_piece_59"/>
    <child link="link_coacd_convex_piece_60"/>
  </joint>
  <link name="link_coacd_convex_piece_61">
    <inertial>
      <origin xyz="0 0 0" rpy="0 0 0"/>
      <inertia ixx="1.22E-09" ixy="5.20E-10" ixz="7.46E-10" iyy="1.63E-09" iyz="-5.95E-10" izz="1.25E-09"/>
    </inertial>
    <visual>
      <origin xyz="0 0 0" rpy="0 0 0"/>
      <geometry>
        <mesh filename="coacd_convex_piece_61.obj" scale="1.0000E+00 1.0000E+00 1.0000E+00"/>
      </geometry>
      <material name="">
        <color rgba="7.50E-01 7.50E-01 7.50E-01 1"/>
      </material>
    </visual>
    <collision>
      <origin xyz="0 0 0" rpy="0 0 0"/>
      <geometry>
        <mesh filename="coacd_convex_piece_61.obj" scale="1.0000E+00 1.0000E+00 1.0000E+00"/>
      </geometry>
    </collision>
  </link>
  <joint name="link_coacd_convex_piece_61_joint" type="fixed">
    <origin xyz="0 0 0" rpy="0 0 0"/>
    <parent link="link_coacd_convex_piece_60"/>
    <child link="link_coacd_convex_piece_61"/>
  </joint>
  <link name="link_coacd_convex_piece_62">
    <inertial>
      <origin xyz="0 0 0" rpy="0 0 0"/>
      <inertia ixx="2.48E-10" ixy="4.88E-10" ixz="2.68E-10" iyy="1.54E-09" iyz="-1.12E-10" izz="1.60E-09"/>
    </inertial>
    <visual>
      <origin xyz="0 0 0" rpy="0 0 0"/>
      <geometry>
        <mesh filename="coacd_convex_piece_62.obj" scale="1.0000E+00 1.0000E+00 1.0000E+00"/>
      </geometry>
      <material name="">
        <color rgba="7.50E-01 7.50E-01 7.50E-01 1"/>
      </material>
    </visual>
    <collision>
      <origin xyz="0 0 0" rpy="0 0 0"/>
      <geometry>
        <mesh filename="coacd_convex_piece_62.obj" scale="1.0000E+00 1.0000E+00 1.0000E+00"/>
      </geometry>
    </collision>
  </link>
  <joint name="link_coacd_convex_piece_62_joint" type="fixed">
    <origin xyz="0 0 0" rpy="0 0 0"/>
    <parent link="link_coacd_convex_piece_61"/>
    <child link="link_coacd_convex_piece_62"/>
  </joint>
  <link name="link_coacd_convex_piece_63">
    <inertial>
      <origin xyz="0 0 0" rpy="0 0 0"/>
      <inertia ixx="1.51E-09" ixy="-8.76E-10" ixz="1.24E-10" iyy="5.81E-10" iyz="2.08E-10" izz="2.00E-09"/>
    </inertial>
    <visual>
      <origin xyz="0 0 0" rpy="0 0 0"/>
      <geometry>
        <mesh filename="coacd_convex_piece_63.obj" scale="1.0000E+00 1.0000E+00 1.0000E+00"/>
      </geometry>
      <material name="">
        <color rgba="7.50E-01 7.50E-01 7.50E-01 1"/>
      </material>
    </visual>
    <collision>
      <origin xyz="0 0 0" rpy="0 0 0"/>
      <geometry>
        <mesh filename="coacd_convex_piece_63.obj" scale="1.0000E+00 1.0000E+00 1.0000E+00"/>
      </geometry>
    </collision>
  </link>
  <joint name="link_coacd_convex_piece_63_joint" type="fixed">
    <origin xyz="0 0 0" rpy="0 0 0"/>
    <parent link="link_coacd_convex_piece_62"/>
    <child link="link_coacd_convex_piece_63"/>
  </joint>
  <link name="link_coacd_convex_piece_64">
    <inertial>
      <origin xyz="0 0 0" rpy="0 0 0"/>
      <inertia ixx="2.14E-09" ixy="-9.06E-11" ixz="-7.35E-10" iyy="2.41E-09" iyz="-2.60E-10" izz="3.05E-10"/>
    </inertial>
    <visual>
      <origin xyz="0 0 0" rpy="0 0 0"/>
      <geometry>
        <mesh filename="coacd_convex_piece_64.obj" scale="1.0000E+00 1.0000E+00 1.0000E+00"/>
      </geometry>
      <material name="">
        <color rgba="7.50E-01 7.50E-01 7.50E-01 1"/>
      </material>
    </visual>
    <collision>
      <origin xyz="0 0 0" rpy="0 0 0"/>
      <geometry>
        <mesh filename="coacd_convex_piece_64.obj" scale="1.0000E+00 1.0000E+00 1.0000E+00"/>
      </geometry>
    </collision>
  </link>
  <joint name="link_coacd_convex_piece_64_joint" type="fixed">
    <origin xyz="0 0 0" rpy="0 0 0"/>
    <parent link="link_coacd_convex_piece_63"/>
    <child link="link_coacd_convex_piece_64"/>
  </joint>
  <link name="link_coacd_convex_piece_65">
    <inertial>
      <origin xyz="0 0 0" rpy="0 0 0"/>
      <inertia ixx="1.64E-09" ixy="1.16E-09" ixz="-1.05E-09" iyy="2.72E-09" iyz="7.20E-10" izz="2.84E-09"/>
    </inertial>
    <visual>
      <origin xyz="0 0 0" rpy="0 0 0"/>
      <geometry>
        <mesh filename="coacd_convex_piece_65.obj" scale="1.0000E+00 1.0000E+00 1.0000E+00"/>
      </geometry>
      <material name="">
        <color rgba="7.50E-01 7.50E-01 7.50E-01 1"/>
      </material>
    </visual>
    <collision>
      <origin xyz="0 0 0" rpy="0 0 0"/>
      <geometry>
        <mesh filename="coacd_convex_piece_65.obj" scale="1.0000E+00 1.0000E+00 1.0000E+00"/>
      </geometry>
    </collision>
  </link>
  <joint name="link_coacd_convex_piece_65_joint" type="fixed">
    <origin xyz="0 0 0" rpy="0 0 0"/>
    <parent link="link_coacd_convex_piece_64"/>
    <child link="link_coacd_convex_piece_65"/>
  </joint>
  <link name="link_coacd_convex_piece_66">
    <inertial>
      <origin xyz="0 0 0" rpy="0 0 0"/>
      <inertia ixx="1.31E-09" ixy="-5.38E-10" ixz="-1.47E-10" iyy="9.12E-10" iyz="-3.42E-10" izz="1.36E-09"/>
    </inertial>
    <visual>
      <origin xyz="0 0 0" rpy="0 0 0"/>
      <geometry>
        <mesh filename="coacd_convex_piece_66.obj" scale="1.0000E+00 1.0000E+00 1.0000E+00"/>
      </geometry>
      <material name="">
        <color rgba="7.50E-01 7.50E-01 7.50E-01 1"/>
      </material>
    </visual>
    <collision>
      <origin xyz="0 0 0" rpy="0 0 0"/>
      <geometry>
        <mesh filename="coacd_convex_piece_66.obj" scale="1.0000E+00 1.0000E+00 1.0000E+00"/>
      </geometry>
    </collision>
  </link>
  <joint name="link_coacd_convex_piece_66_joint" type="fixed">
    <origin xyz="0 0 0" rpy="0 0 0"/>
    <parent link="link_coacd_convex_piece_65"/>
    <child link="link_coacd_convex_piece_66"/>
  </joint>
  <link name="link_coacd_convex_piece_67">
    <inertial>
      <origin xyz="0 0 0" rpy="0 0 0"/>
      <inertia ixx="4.33E-10" ixy="3.41E-11" ixz="-1.02E-11" iyy="2.00E-10" iyz="1.84E-10" izz="3.80E-10"/>
    </inertial>
    <visual>
      <origin xyz="0 0 0" rpy="0 0 0"/>
      <geometry>
        <mesh filename="coacd_convex_piece_67.obj" scale="1.0000E+00 1.0000E+00 1.0000E+00"/>
      </geometry>
      <material name="">
        <color rgba="7.50E-01 7.50E-01 7.50E-01 1"/>
      </material>
    </visual>
    <collision>
      <origin xyz="0 0 0" rpy="0 0 0"/>
      <geometry>
        <mesh filename="coacd_convex_piece_67.obj" scale="1.0000E+00 1.0000E+00 1.0000E+00"/>
      </geometry>
    </collision>
  </link>
  <joint name="link_coacd_convex_piece_67_joint" type="fixed">
    <origin xyz="0 0 0" rpy="0 0 0"/>
    <parent link="link_coacd_convex_piece_66"/>
    <child link="link_coacd_convex_piece_67"/>
  </joint>
  <link name="link_coacd_convex_piece_68">
    <inertial>
      <origin xyz="0 0 0" rpy="0 0 0"/>
      <inertia ixx="2.35E-09" ixy="1.17E-09" ixz="1.45E-10" iyy="7.70E-10" iyz="-3.15E-10" izz="2.94E-09"/>
    </inertial>
    <visual>
      <origin xyz="0 0 0" rpy="0 0 0"/>
      <geometry>
        <mesh filename="coacd_convex_piece_68.obj" scale="1.0000E+00 1.0000E+00 1.0000E+00"/>
      </geometry>
      <material name="">
        <color rgba="7.50E-01 7.50E-01 7.50E-01 1"/>
      </material>
    </visual>
    <collision>
      <origin xyz="0 0 0" rpy="0 0 0"/>
      <geometry>
        <mesh filename="coacd_convex_piece_68.obj" scale="1.0000E+00 1.0000E+00 1.0000E+00"/>
      </geometry>
    </collision>
  </link>
  <joint name="link_coacd_convex_piece_68_joint" type="fixed">
    <origin xyz="0 0 0" rpy="0 0 0"/>
    <parent link="link_coacd_convex_piece_67"/>
    <child link="link_coacd_convex_piece_68"/>
  </joint>
  <link name="link_coacd_convex_piece_69">
    <inertial>
      <origin xyz="0 0 0" rpy="0 0 0"/>
      <inertia ixx="1.60E-10" ixy="2.34E-11" ixz="2.69E-10" iyy="7.22E-10" iyz="-1.91E-11" izz="5.99E-10"/>
    </inertial>
    <visual>
      <origin xyz="0 0 0" rpy="0 0 0"/>
      <geometry>
        <mesh filename="coacd_convex_piece_69.obj" scale="1.0000E+00 1.0000E+00 1.0000E+00"/>
      </geometry>
      <material name="">
        <color rgba="7.50E-01 7.50E-01 7.50E-01 1"/>
      </material>
    </visual>
    <collision>
      <origin xyz="0 0 0" rpy="0 0 0"/>
      <geometry>
        <mesh filename="coacd_convex_piece_69.obj" scale="1.0000E+00 1.0000E+00 1.0000E+00"/>
      </geometry>
    </collision>
  </link>
  <joint name="link_coacd_convex_piece_69_joint" type="fixed">
    <origin xyz="0 0 0" rpy="0 0 0"/>
    <parent link="link_coacd_convex_piece_68"/>
    <child link="link_coacd_convex_piece_69"/>
  </joint>
  <link name="link_coacd_convex_piece_70">
    <inertial>
      <origin xyz="0 0 0" rpy="0 0 0"/>
      <inertia ixx="1.39E-09" ixy="6.02E-10" ixz="3.93E-10" iyy="8.24E-10" iyz="-6.49E-10" izz="1.39E-09"/>
    </inertial>
    <visual>
      <origin xyz="0 0 0" rpy="0 0 0"/>
      <geometry>
        <mesh filename="coacd_convex_piece_70.obj" scale="1.0000E+00 1.0000E+00 1.0000E+00"/>
      </geometry>
      <material name="">
        <color rgba="7.50E-01 7.50E-01 7.50E-01 1"/>
      </material>
    </visual>
    <collision>
      <origin xyz="0 0 0" rpy="0 0 0"/>
      <geometry>
        <mesh filename="coacd_convex_piece_70.obj" scale="1.0000E+00 1.0000E+00 1.0000E+00"/>
      </geometry>
    </collision>
  </link>
  <joint name="link_coacd_convex_piece_70_joint" type="fixed">
    <origin xyz="0 0 0" rpy="0 0 0"/>
    <parent link="link_coacd_convex_piece_69"/>
    <child link="link_coacd_convex_piece_70"/>
  </joint>
  <link name="link_coacd_convex_piece_71">
    <inertial>
      <origin xyz="0 0 0" rpy="0 0 0"/>
      <inertia ixx="2.85E-09" ixy="1.10E-11" ixz="-8.61E-10" iyy="3.18E-09" iyz="4.85E-11" izz="3.00E-10"/>
    </inertial>
    <visual>
      <origin xyz="0 0 0" rpy="0 0 0"/>
      <geometry>
        <mesh filename="coacd_convex_piece_71.obj" scale="1.0000E+00 1.0000E+00 1.0000E+00"/>
      </geometry>
      <material name="">
        <color rgba="7.50E-01 7.50E-01 7.50E-01 1"/>
      </material>
    </visual>
    <collision>
      <origin xyz="0 0 0" rpy="0 0 0"/>
      <geometry>
        <mesh filename="coacd_convex_piece_71.obj" scale="1.0000E+00 1.0000E+00 1.0000E+00"/>
      </geometry>
    </collision>
  </link>
  <joint name="link_coacd_convex_piece_71_joint" type="fixed">
    <origin xyz="0 0 0" rpy="0 0 0"/>
    <parent link="link_coacd_convex_piece_70"/>
    <child link="link_coacd_convex_piece_71"/>
  </joint>
  <link name="link_coacd_convex_piece_72">
    <inertial>
      <origin xyz="0 0 0" rpy="0 0 0"/>
      <inertia ixx="8.74E-10" ixy="5.83E-10" ixz="2.62E-10" iyy="9.52E-10" iyz="-2.91E-10" izz="1.39E-09"/>
    </inertial>
    <visual>
      <origin xyz="0 0 0" rpy="0 0 0"/>
      <geometry>
        <mesh filename="coacd_convex_piece_72.obj" scale="1.0000E+00 1.0000E+00 1.0000E+00"/>
      </geometry>
      <material name="">
        <color rgba="7.50E-01 7.50E-01 7.50E-01 1"/>
      </material>
    </visual>
    <collision>
      <origin xyz="0 0 0" rpy="0 0 0"/>
      <geometry>
        <mesh filename="coacd_convex_piece_72.obj" scale="1.0000E+00 1.0000E+00 1.0000E+00"/>
      </geometry>
    </collision>
  </link>
  <joint name="link_coacd_convex_piece_72_joint" type="fixed">
    <origin xyz="0 0 0" rpy="0 0 0"/>
    <parent link="link_coacd_convex_piece_71"/>
    <child link="link_coacd_convex_piece_72"/>
  </joint>
</robot>
